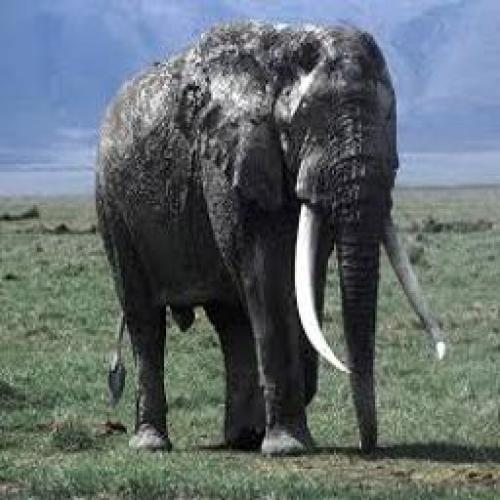african_elephant-endangered: (73, 19, 453, 456)
